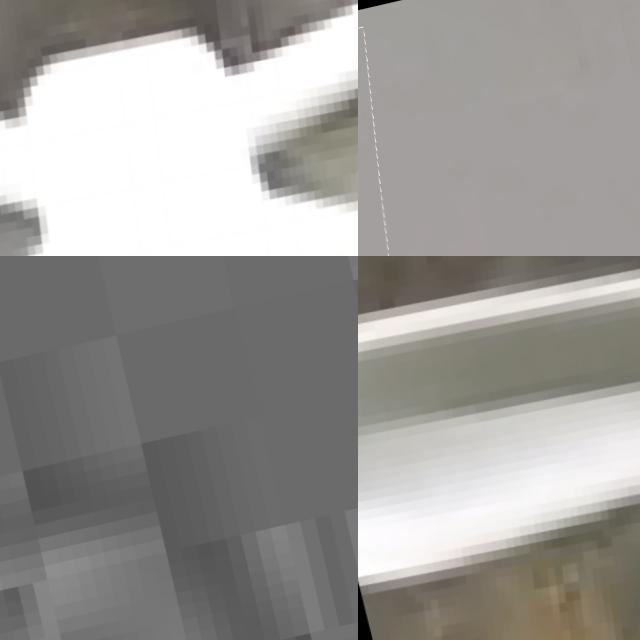drone: (358, 256, 640, 640), (0, 0, 358, 256), (358, 13, 484, 256)
